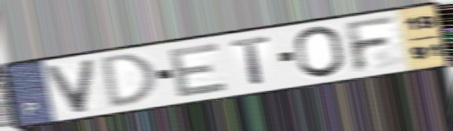D: (100, 51, 160, 111)
E: (167, 40, 231, 100)
F: (342, 13, 400, 75)
O: (292, 25, 348, 81)
T: (228, 34, 274, 87)
V: (43, 56, 97, 115)
